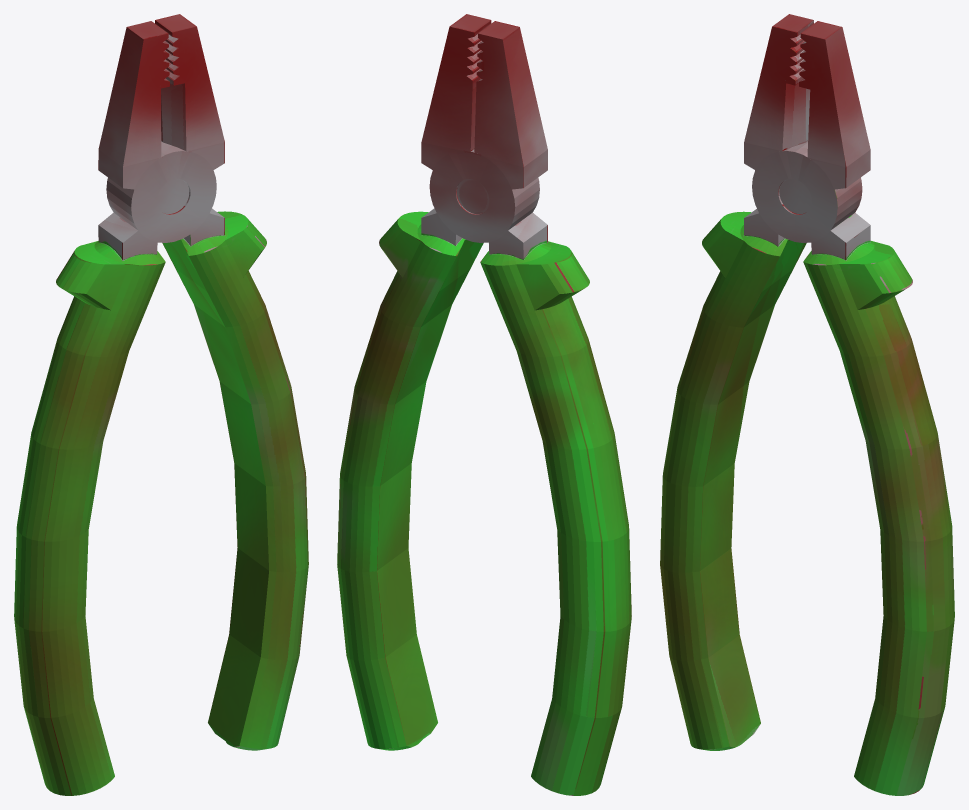
Rendered from Plier (1).fbx.
3 views of the same model, side by side, from view 1: azimuth 30°, elevation 25°; view 2: azimuth 150°, elevation 25°; view 3: azimuth 330°, elevation 25° (orthographic).
Visible parts, largest first — view 1: Sphere; view 2: Sphere; view 3: Sphere.
Boxes of the visible parts, x1,y1,x2,y2 form: Sphere: (14, 14, 308, 795); Sphere: (337, 14, 631, 795); Sphere: (660, 14, 954, 795).
Bounding box in the file's own units: 357 × 888 × 82.68.
1 material, 1 textured.
